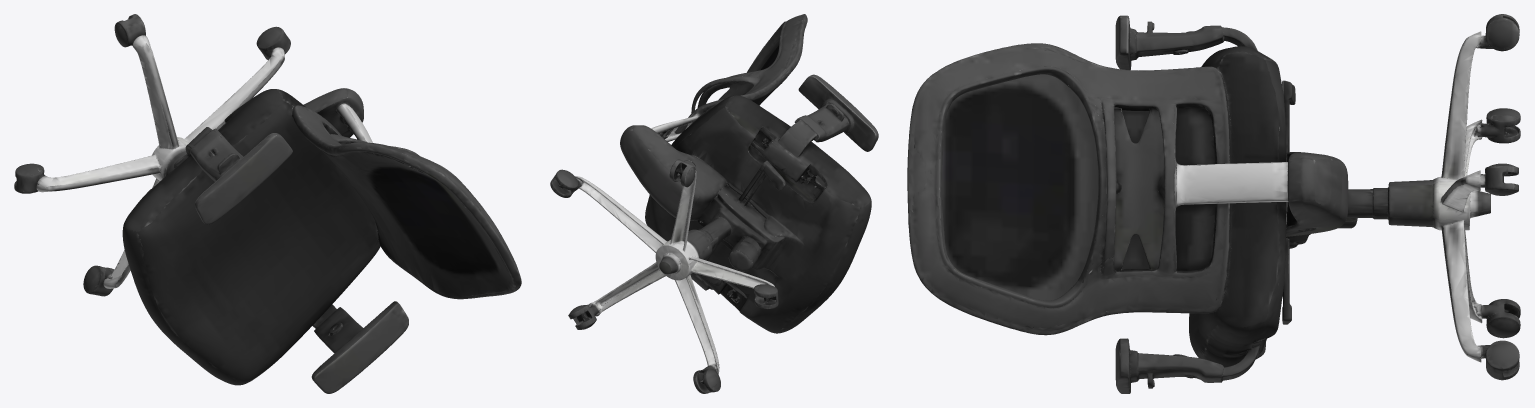
The picture shows the model from 3 angles, left to right: view 1: azimuth 30°, elevation 25°; view 2: azimuth 150°, elevation 25°; view 3: azimuth 270°, elevation 25°; orthographic projection. The views are drawn at different scales.
Visible parts, largest first — view 1: Ramdhan.001; view 2: Ramdhan.001; view 3: Ramdhan.001.
Part boxes in pixels (x1,y1,x2,y2): Ramdhan.001: (14, 14, 521, 393); Ramdhan.001: (550, 14, 878, 393); Ramdhan.001: (907, 14, 1520, 393).
Bounding box in the file's own units: 0.0212 × 0.0209 × 0.0323.
Materials: 1 (1 with a texture image).
